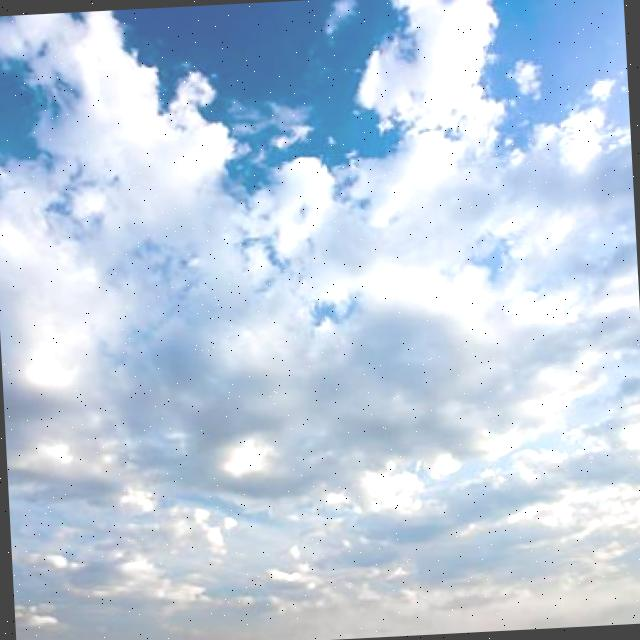Cs: (1, 65, 640, 578)
